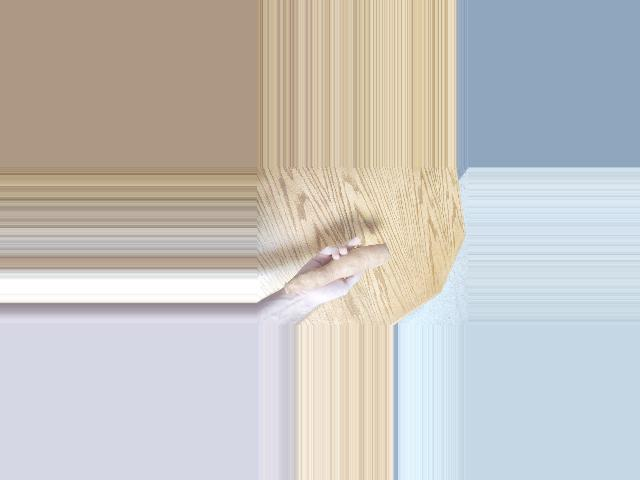sweet_potato: (280, 241, 390, 296)
